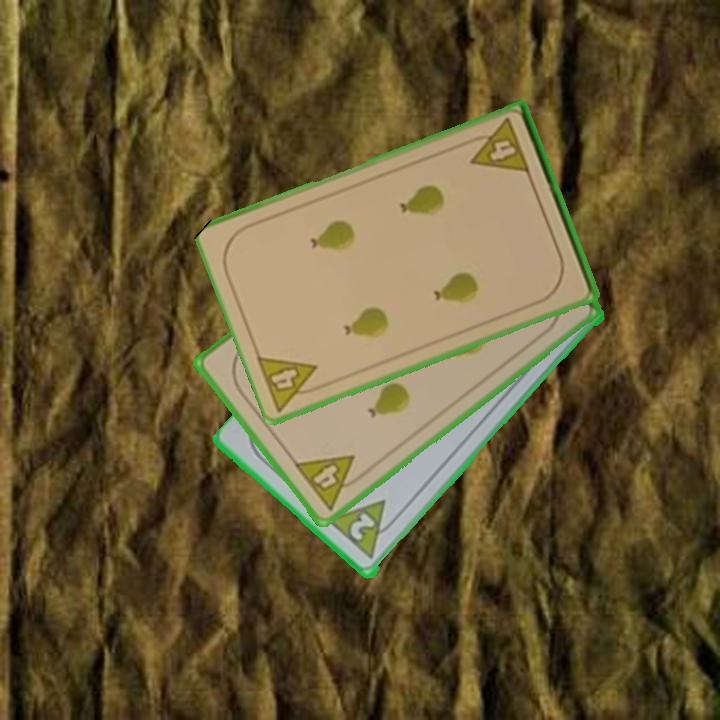2p: (346, 509, 379, 544)
4p: (290, 451, 370, 514), (253, 352, 330, 415), (462, 115, 532, 177)
